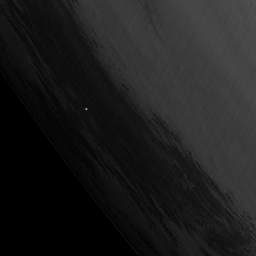Target: (83, 107, 88, 112)
